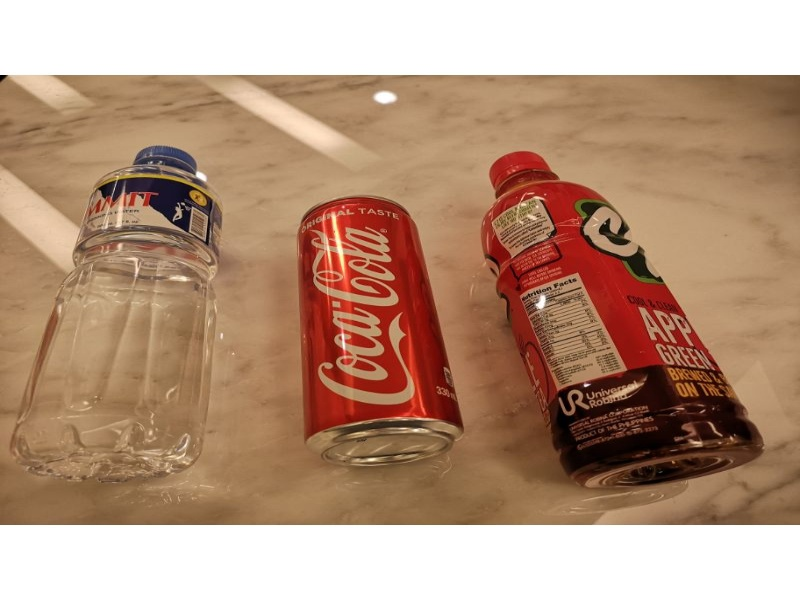PET #1: (479, 151, 767, 495), (10, 142, 226, 489)
